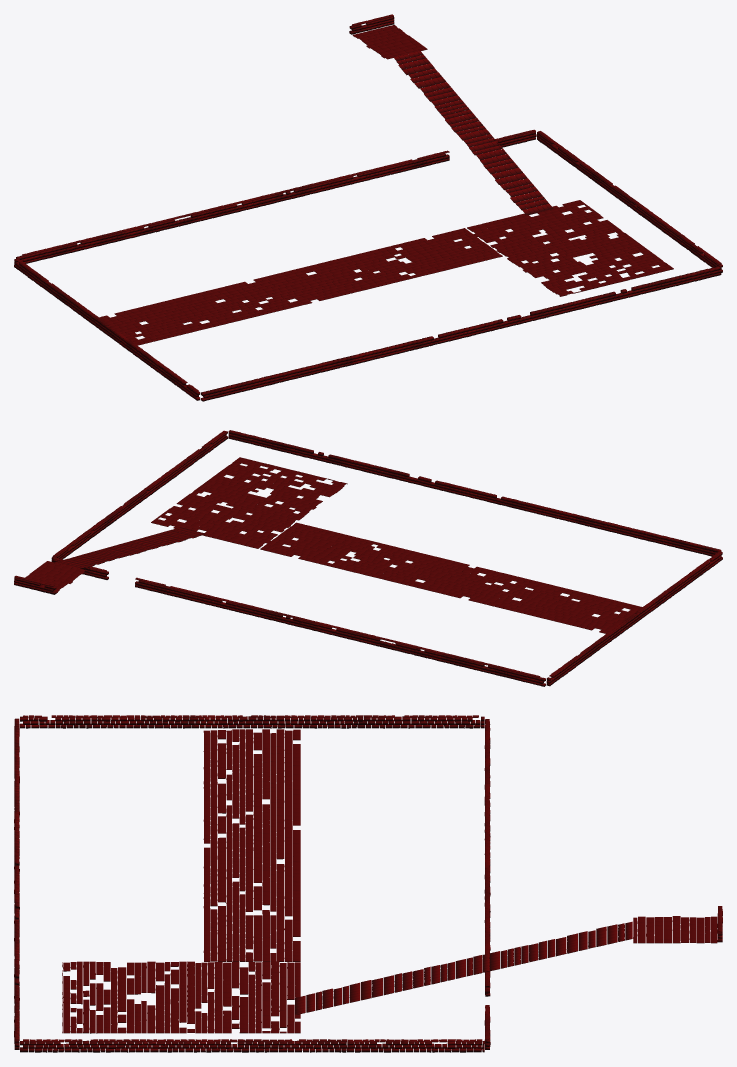
The model's file is quellan_town.glb.
3 renders of one model, top to bottom at view 1: azimuth 30°, elevation 25°; view 2: azimuth 150°, elevation 25°; view 3: azimuth 270°, elevation 25°, orthographic. The views are drawn at different scales.
Parts seen in each view (by area): view 1: quellan_town; view 2: quellan_town; view 3: quellan_town.
Boxes of the visible parts, x1,y1,x2,y2 form: quellan_town: (14, 14, 722, 401); quellan_town: (14, 430, 722, 686); quellan_town: (14, 715, 722, 1052).
Size of what is drawn, in the model's own units: 73.08 by 9.27 by 67.05.
